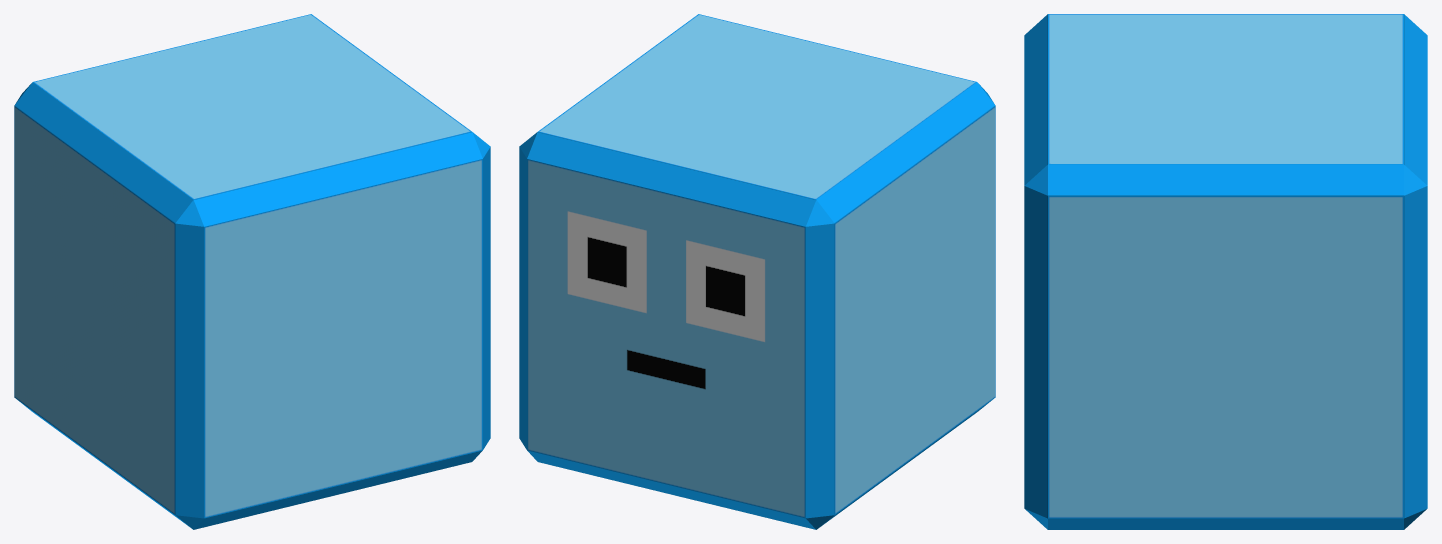
Rendered from Player.obj.
3 renders of one model, left to right at view 1: azimuth 30°, elevation 25°; view 2: azimuth 150°, elevation 25°; view 3: azimuth 270°, elevation 25°, orthographic. The views are drawn at different scales.
Parts seen in each view (by area): view 1: cuboid; view 2: cuboid; view 3: cuboid.
Boxes of the visible parts, left/top/right/bottom form: cuboid: left=14, top=14, right=490, bottom=529; cuboid: left=519, top=14, right=995, bottom=529; cuboid: left=1024, top=14, right=1427, bottom=529.
Bounding box in the file's own units: 2 × 2 × 2.
1 material, 1 textured.
